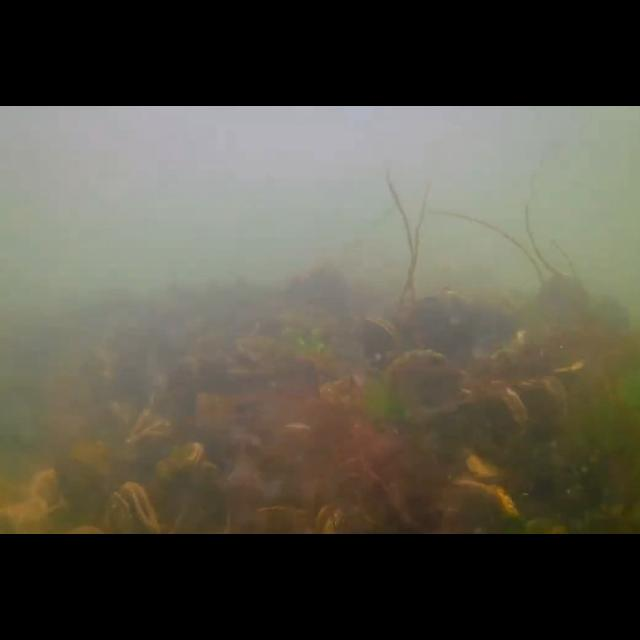Oyster-Closed: (383, 349, 465, 408), (500, 378, 570, 434), (467, 383, 531, 439), (453, 478, 525, 518), (318, 376, 372, 408), (462, 448, 510, 480)
Oyster-Open: (101, 482, 160, 534), (363, 314, 399, 382), (148, 440, 206, 472), (122, 416, 178, 448), (316, 501, 348, 535)
